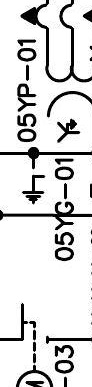115_gs: (21, 165, 46, 206)
